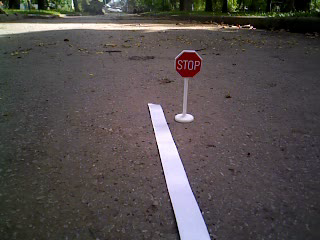Stop: (173, 46, 205, 80)
